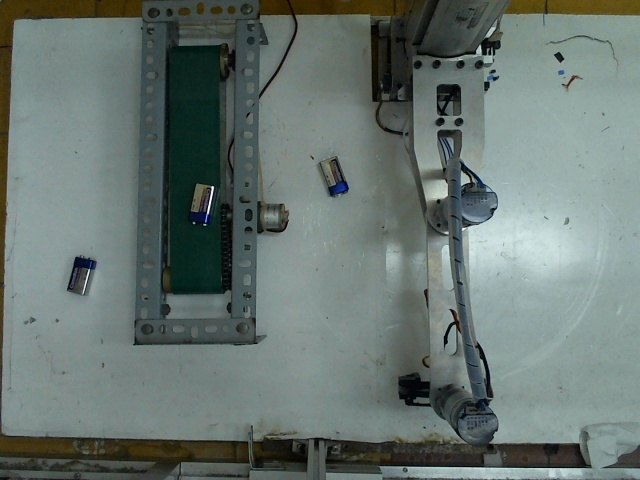battery: (62, 246, 97, 297), (185, 177, 222, 225), (313, 155, 354, 194)
